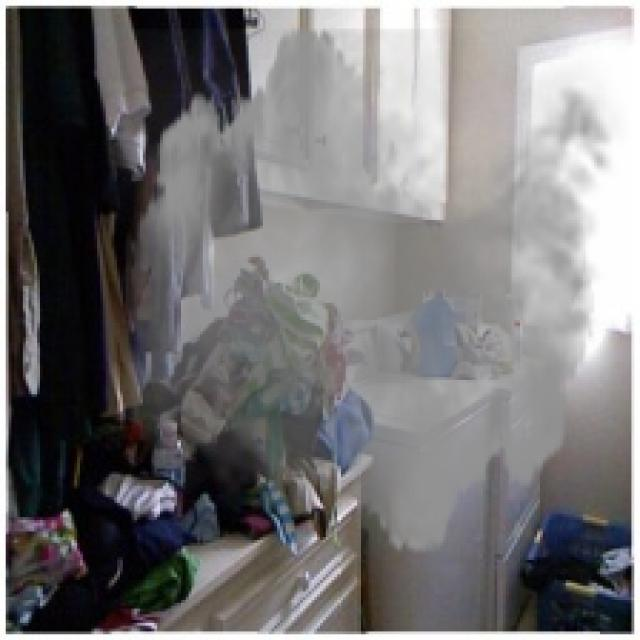smoke: (109, 9, 628, 572)
